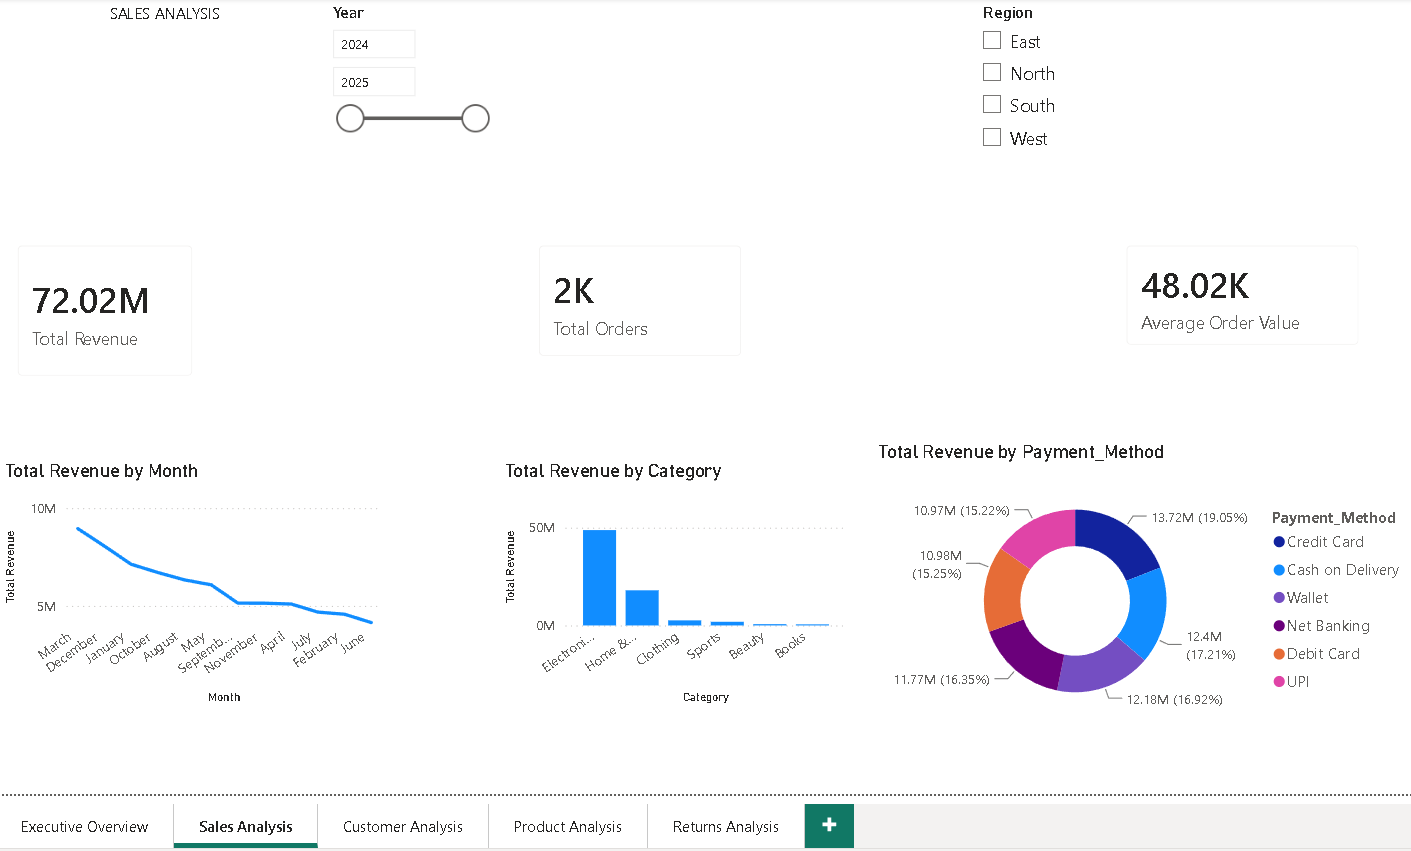

Layout of this report page (visuals, bound fields, positions):
{"tool":"powerbi","page":{"name":"Sales Analysis","canvas":[1280,720],"ordinal":1},"visuals":[{"type":"textbox","box":[10,0,280,280],"z":0},{"type":"cardVisual","fields":{"Data":["Orders_Cleaned.Total Revenue"]},"box":[0,206.9,192.2,152.6],"z":1},{"type":"cardVisual","fields":{"Data":["Orders_Cleaned.Total Orders"]},"box":[471.5,206.9,217.1,134.5],"z":2},{"type":"cardVisual","fields":{"Data":["Orders_Cleaned.Average Order Value"]},"box":[1002.9,206.9,244.2,124.4],"z":3},{"type":"lineChart","fields":{"Category":["DateTable.Month"],"Y":["Orders_Cleaned.Total Revenue"]},"box":[0,417.2,351.6,226.1],"z":4},{"type":"clusteredColumnChart","fields":{"Category":["Products_Cleaned.Category"],"Y":["Orders_Cleaned.Total Revenue"]},"box":[452.3,417.2,320,226.1],"z":5},{"type":"donutChart","fields":{"Category":["Orders_Cleaned.Payment_Method"],"Y":["Orders_Cleaned.Total Revenue"]},"box":[790.3,400.3,489.6,260.1],"z":6},{"type":"slicer","fields":{"Values":["DateTable.Year"]},"box":[289.4,0,162.8,184.3],"z":7},{"type":"slicer","fields":{"Values":["Customers_Cleaned.Region"]},"box":[877.4,0,184.3,161.7],"z":8}]}

Visuals, with their boxes on the page's 1280x720 design canvas (x1, y1, x2, y2). These are canvas units, not pixel positions in the 1411x851 screenshot, which may show the page scaled, cropped or inside an application window:
textbox: crop(10, 0, 290, 280)
cardVisual - Orders_Cleaned.Total Revenue: crop(0, 207, 192, 360)
cardVisual - Orders_Cleaned.Total Orders: crop(472, 207, 689, 341)
cardVisual - Orders_Cleaned.Average Order Value: crop(1003, 207, 1247, 331)
lineChart - DateTable.Month x Orders_Cleaned.Total Revenue: crop(0, 417, 352, 643)
clusteredColumnChart - Products_Cleaned.Category x Orders_Cleaned.Total Revenue: crop(452, 417, 772, 643)
donutChart - Orders_Cleaned.Payment_Method x Orders_Cleaned.Total Revenue: crop(790, 400, 1280, 660)
slicer - DateTable.Year: crop(289, 0, 452, 184)
slicer - Customers_Cleaned.Region: crop(877, 0, 1062, 162)
